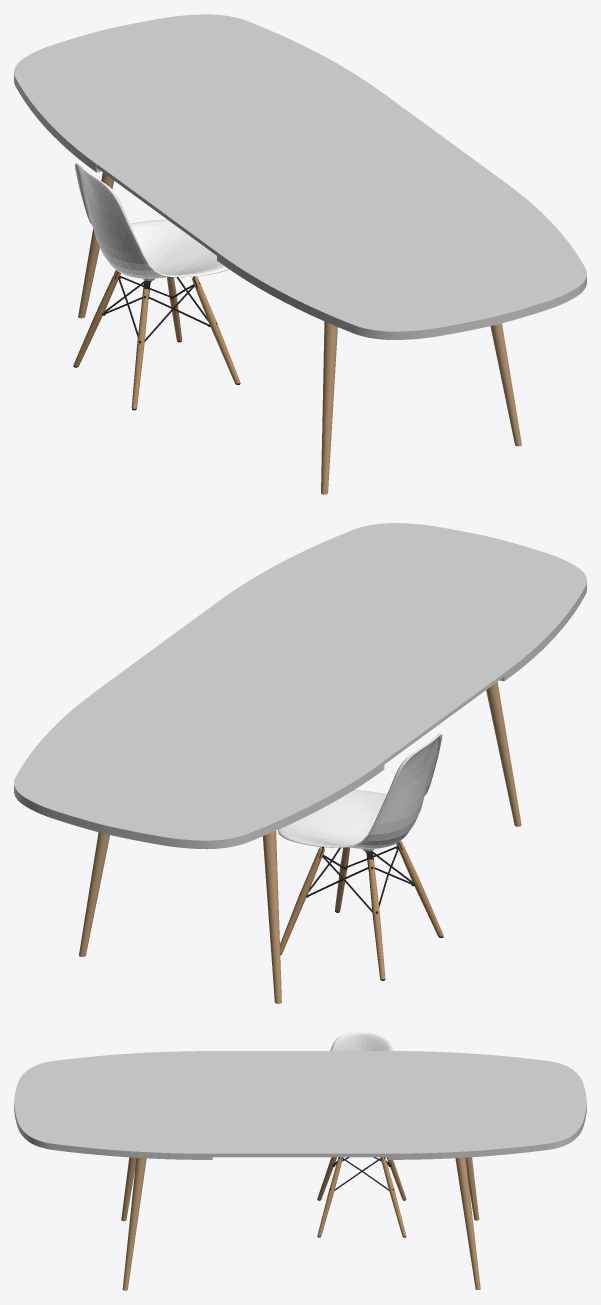
Rendered from table_chair.dae.
The picture shows the model from 3 angles, top to bottom: view 1: azimuth 30°, elevation 25°; view 2: azimuth 150°, elevation 25°; view 3: azimuth 270°, elevation 25°; orthographic projection. The views are drawn at different scales.
Parts seen in each view (by area): view 1: group_20 (×2), group_19 (×2), group_17, group_0, instance_14, instance_2 (×3), group_12, group_10, group_8; view 2: group_19 (×2), group_20 (×2), group_17, group_0, instance_14, instance_2 (×3), group_8, group_12, group_6; view 3: group_20 (×2), group_19 (×2), group_17, group_0, group_10, group_6, instance_14, instance_2 (×2), group_12, group_8.
Boxes of the visible parts, x1,y1,x2,y2 form: group_20 (×2): [217, 182, 586, 339]; group_19 (×2): [14, 14, 382, 172]; group_17: [156, 137, 503, 255]; group_0: [96, 93, 443, 210]; instance_14: [75, 163, 228, 278]; instance_2 (×3): [73, 270, 240, 408]; group_12: [321, 321, 337, 494]; group_10: [490, 323, 521, 446]; group_8: [78, 172, 113, 318]; group_19 (×2): [14, 691, 384, 849]; group_20 (×2): [217, 523, 586, 681]; group_17: [156, 603, 504, 720]; group_0: [96, 647, 443, 764]; instance_14: [278, 733, 442, 849]; instance_2 (×3): [280, 840, 443, 979]; group_8: [262, 831, 281, 1003]; group_12: [486, 682, 521, 826]; group_6: [79, 832, 109, 956]; group_20 (×2): [14, 1051, 212, 1159]; group_19 (×2): [388, 1051, 586, 1159]; group_17: [212, 1051, 300, 1157]; group_0: [301, 1051, 389, 1157]; group_10: [122, 1158, 146, 1290]; group_6: [455, 1157, 480, 1289]; instance_14: [330, 1032, 393, 1050]; instance_2 (×2): [317, 1157, 406, 1236]; group_12: [121, 1157, 136, 1221]; group_8: [465, 1157, 479, 1220].
Size of the model in its own units: 47.62 by 102 by 31.74.
